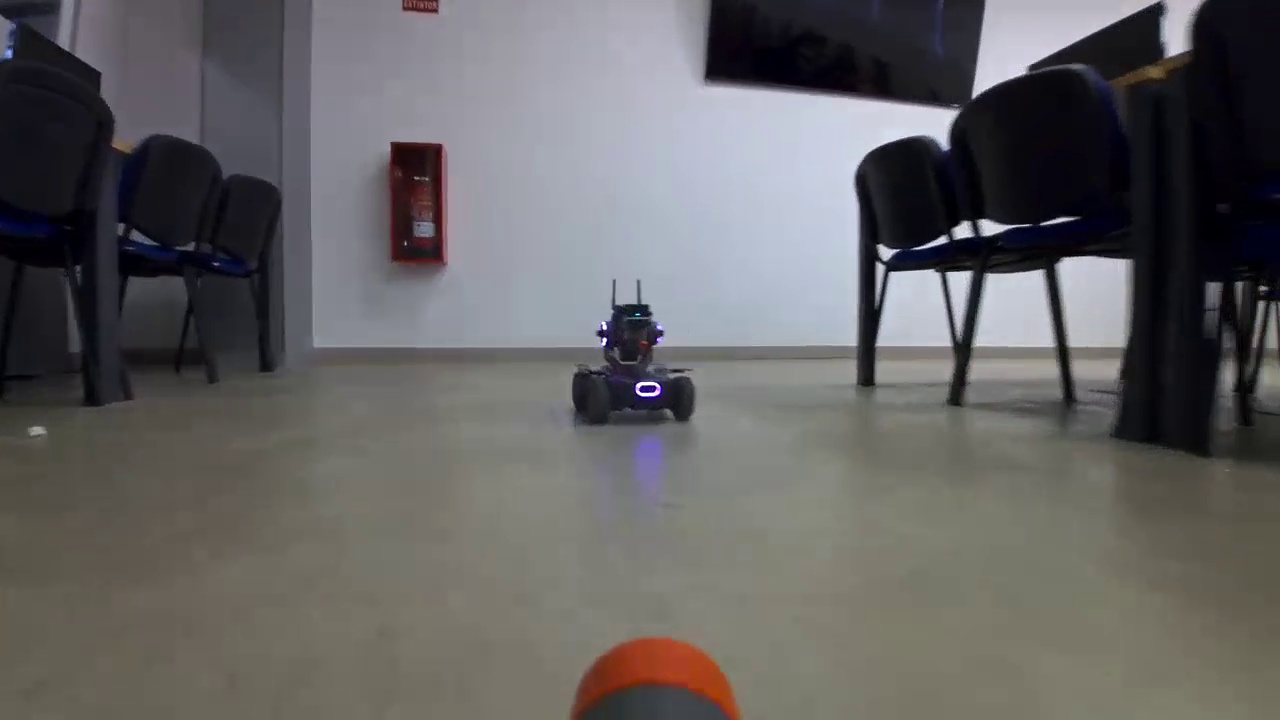robot: (572, 300, 695, 425)
